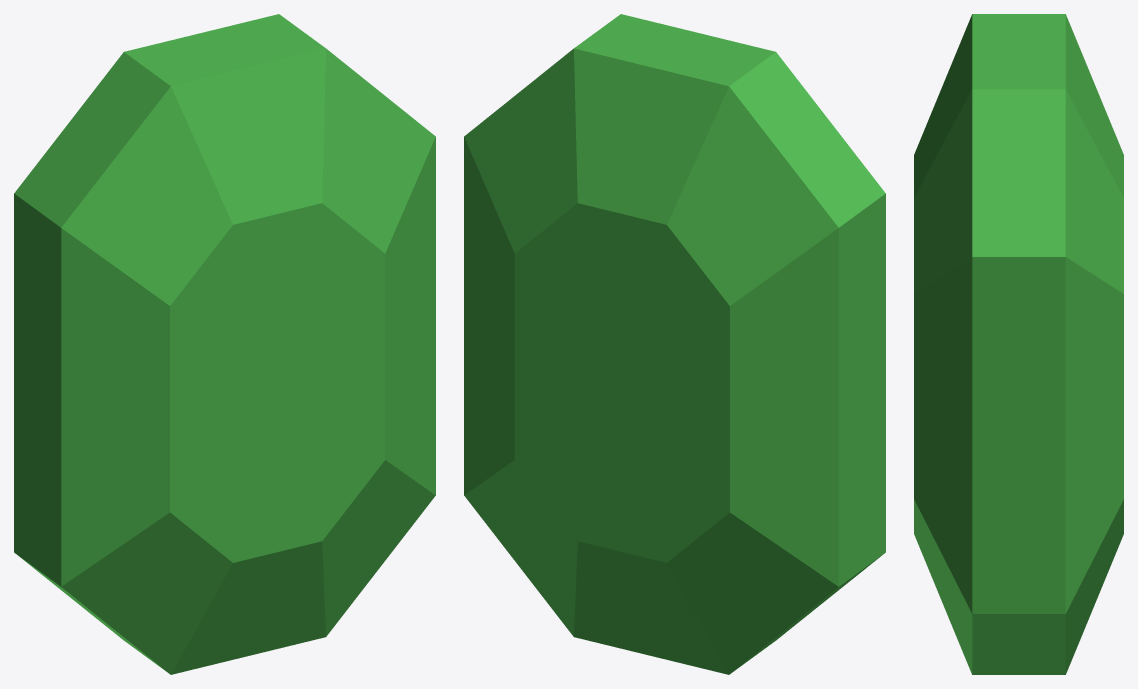
Rendered from Emerald.fbx.
The picture shows the model from 3 angles, left to right: view 1: azimuth 30°, elevation 25°; view 2: azimuth 150°, elevation 25°; view 3: azimuth 270°, elevation 25°; orthographic projection.
Visible parts, largest first — view 1: Emerald; view 2: Emerald; view 3: Emerald.
Part boxes in pixels (bbox=[...]): Emerald: bbox=[14, 14, 435, 674]; Emerald: bbox=[464, 14, 885, 674]; Emerald: bbox=[914, 14, 1123, 674].
Bounding box in the file's own units: 143 × 215 × 69.91.
Materials: 1 (1 with a texture image).
